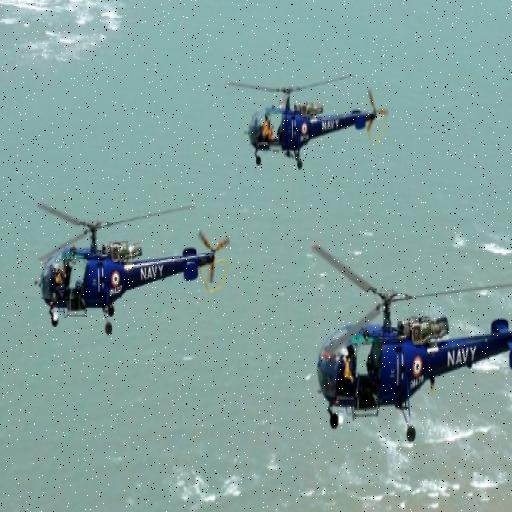helicopter: (310, 245, 512, 445), (30, 189, 238, 343), (229, 68, 395, 179)
